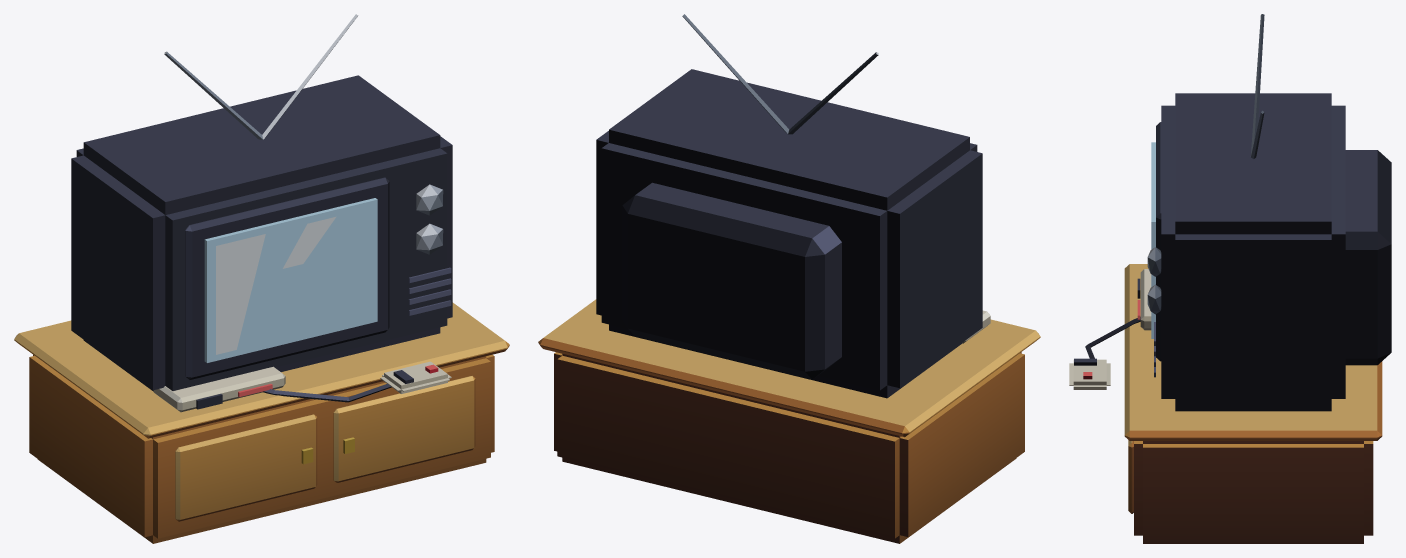
Rendered from tv_game.glb.
The picture shows the model from 3 angles, left to right: view 1: azimuth 30°, elevation 25°; view 2: azimuth 150°, elevation 25°; view 3: azimuth 270°, elevation 25°; orthographic projection. The views are drawn at different scales.
Visible parts, largest first — view 1: tv_game; view 2: tv_game; view 3: tv_game.
Part boxes in pixels (<box>): tv_game: <box>14,14,509,543</box>; tv_game: <box>538,14,1040,543</box>; tv_game: <box>1069,14,1391,543</box>.
Bounding box in the file's own units: 0.88 × 0.9827 × 0.7.
